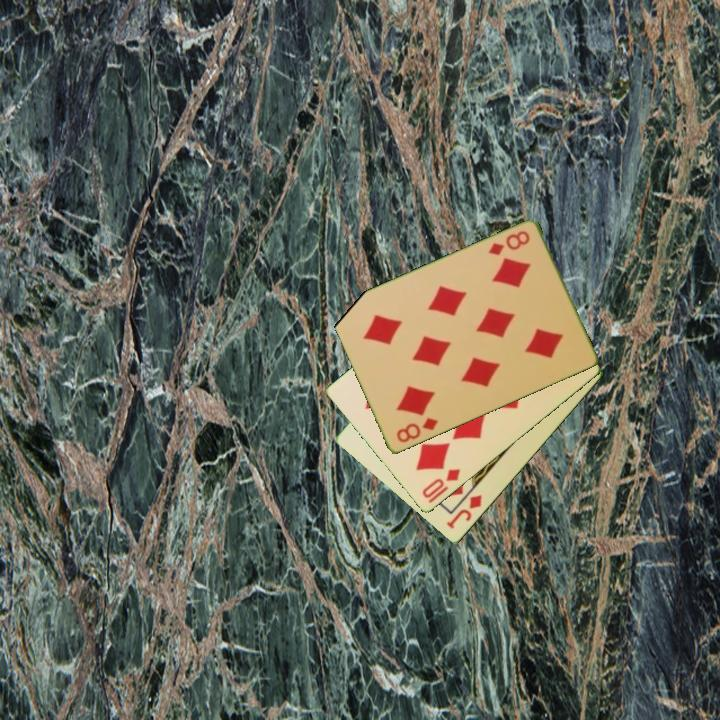10d: (418, 465, 463, 506)
8d: (485, 227, 533, 259), (393, 415, 441, 446)
Jd: (443, 492, 485, 532)
